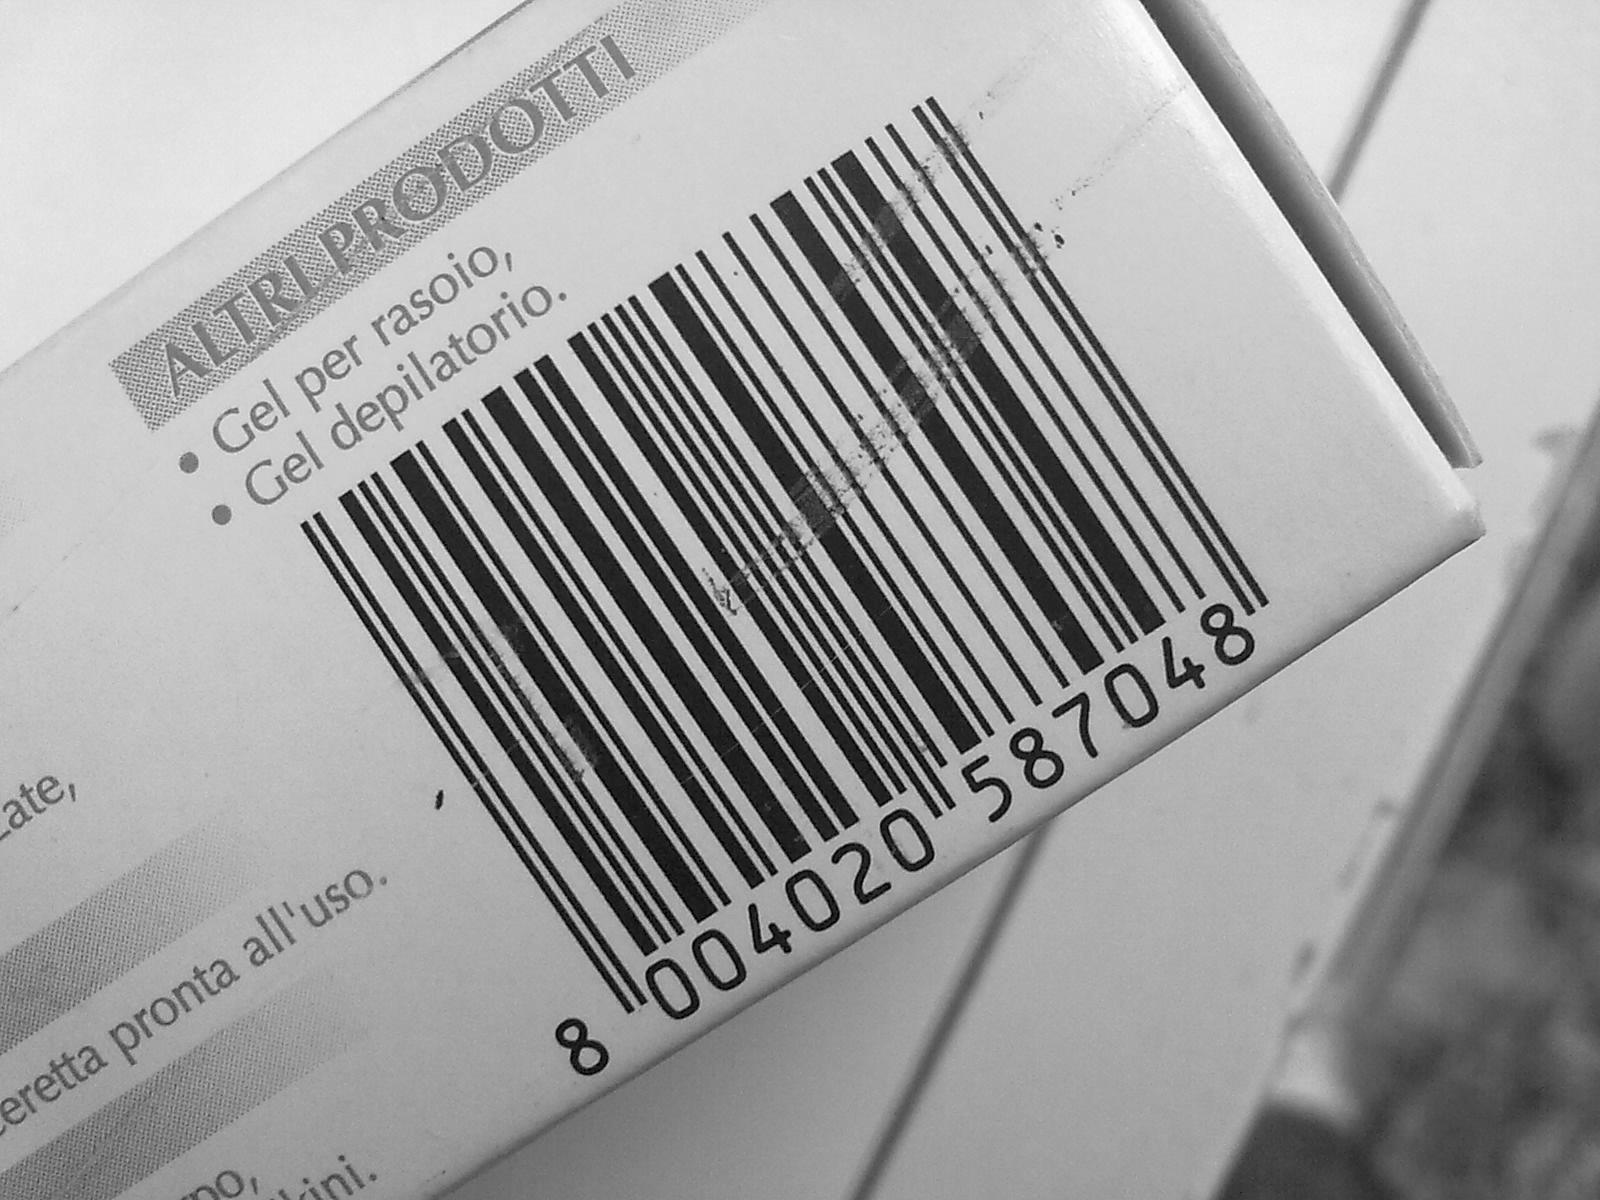Barcode: (296, 59, 1283, 1011)
